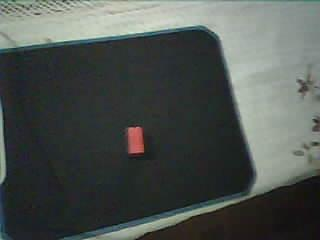lego: (125, 124, 144, 155)
